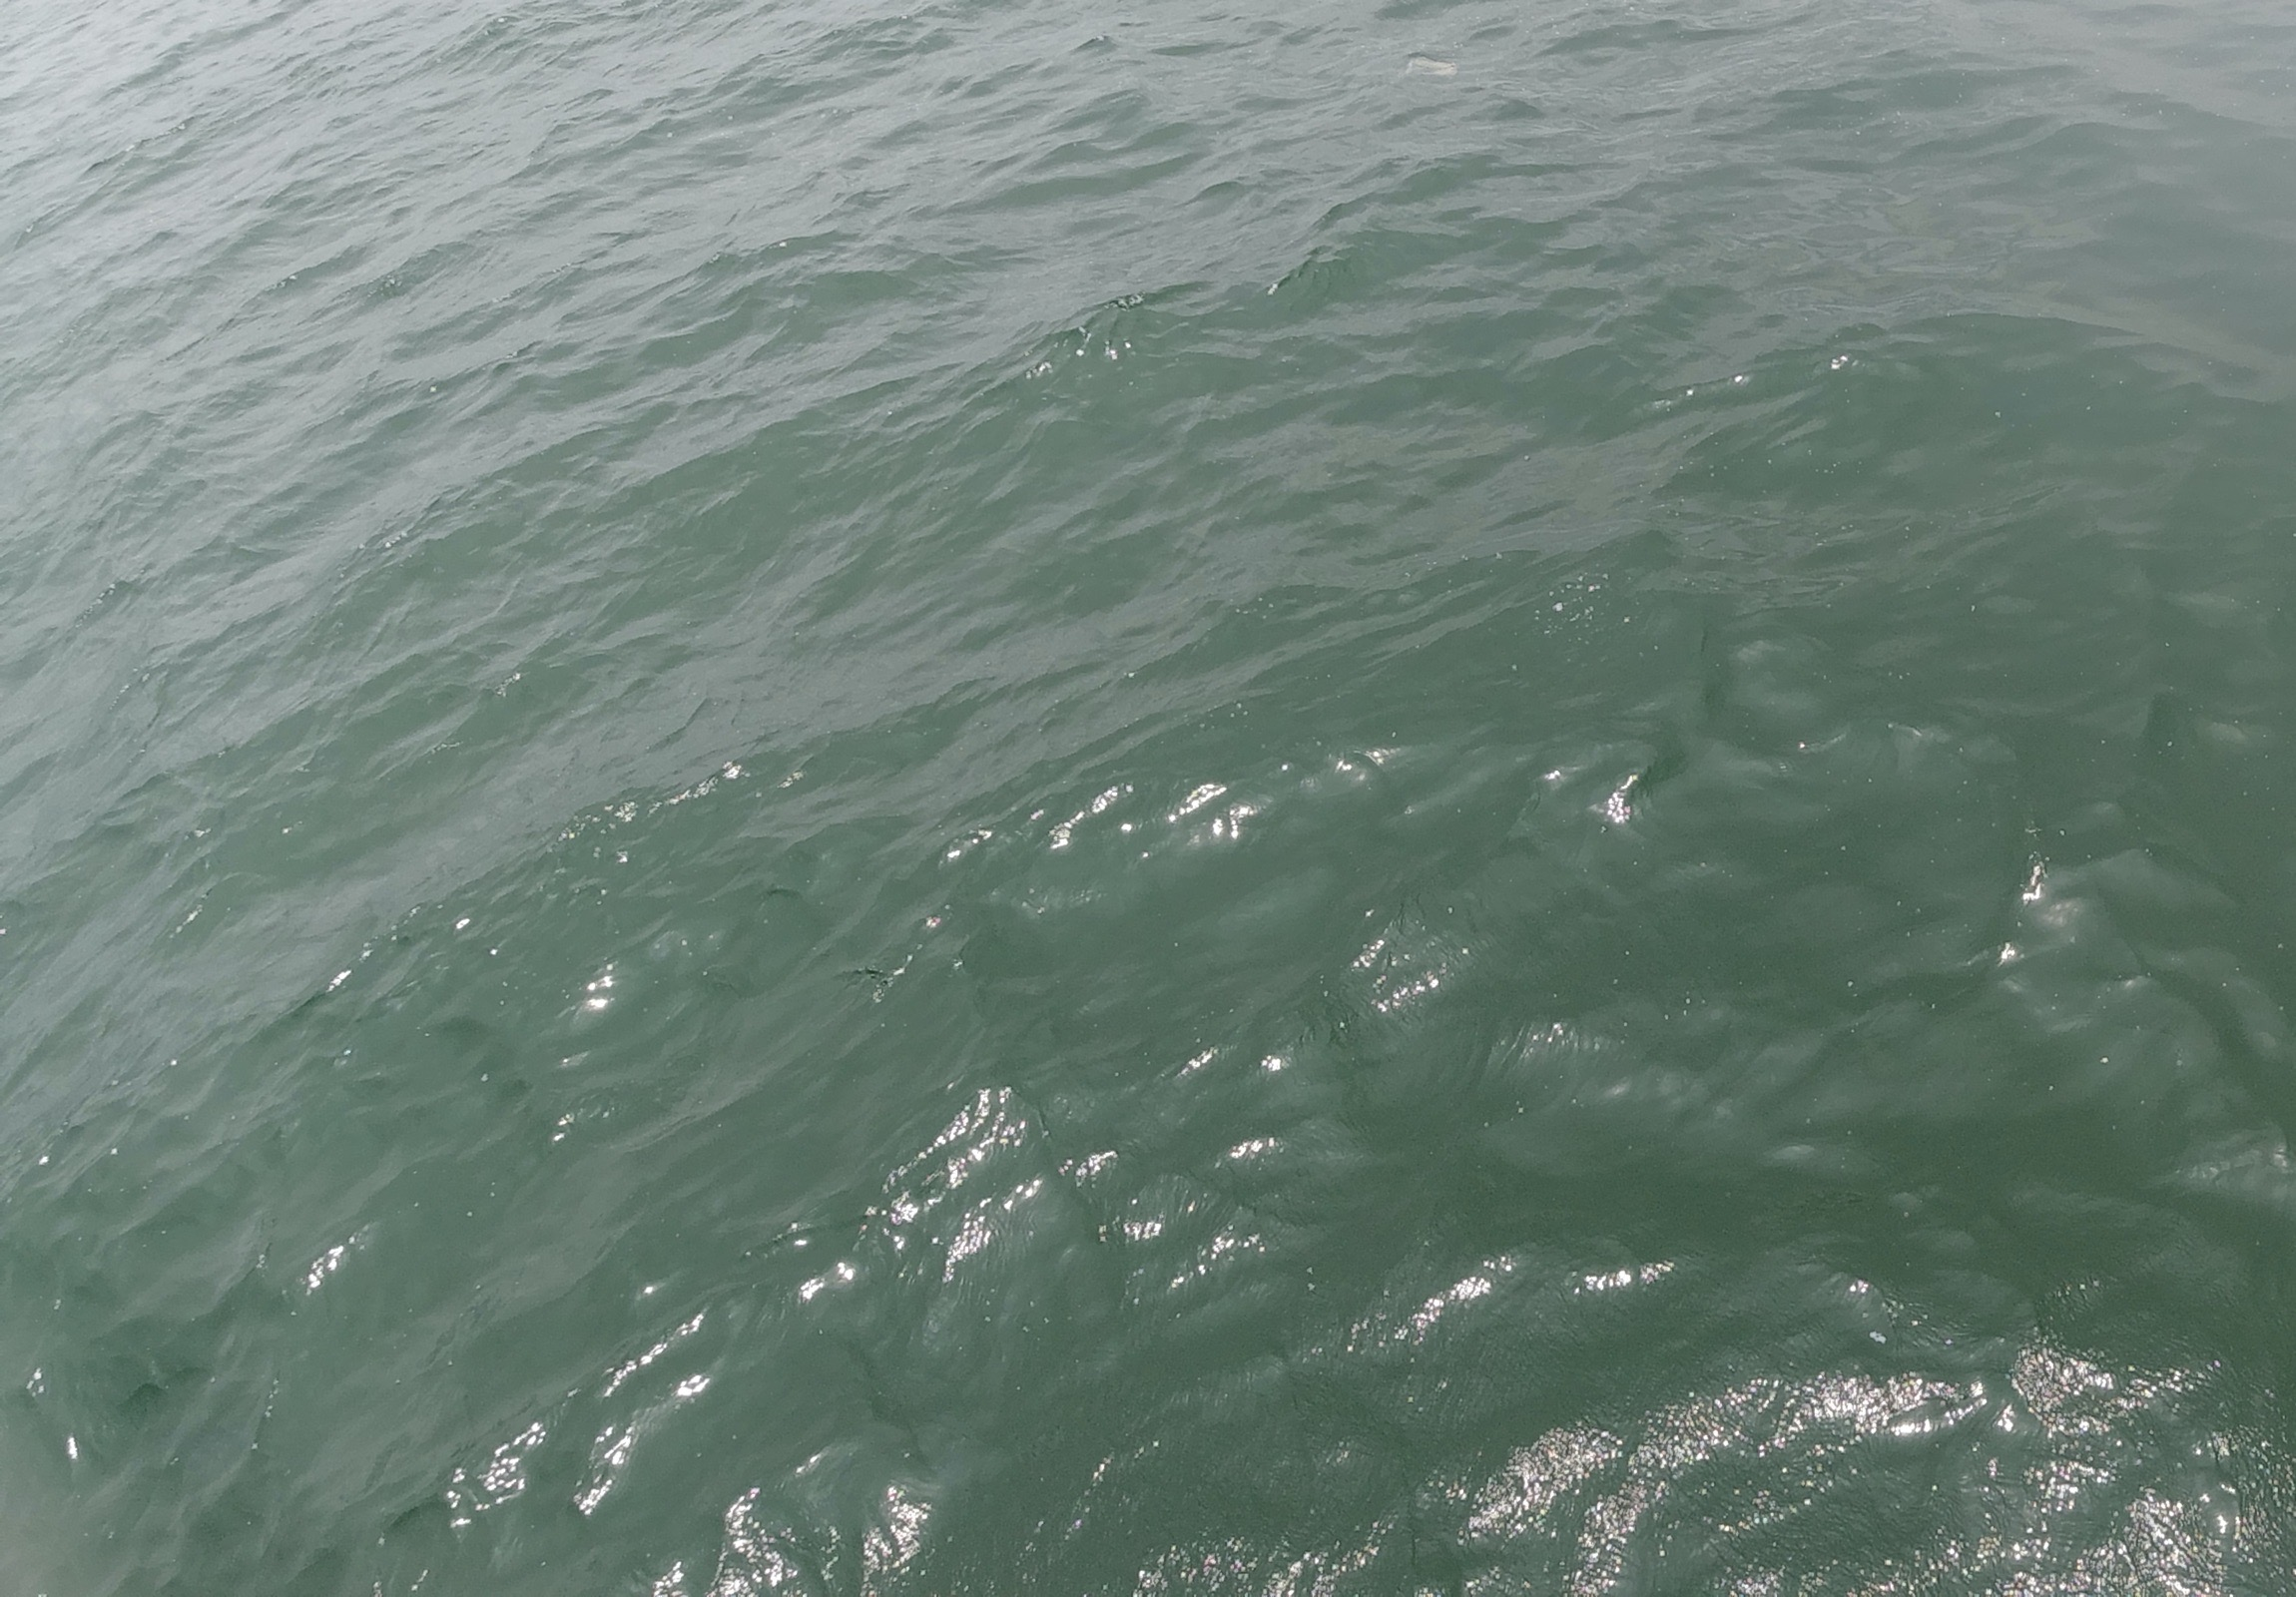plastic: (1375, 44, 1474, 101)
